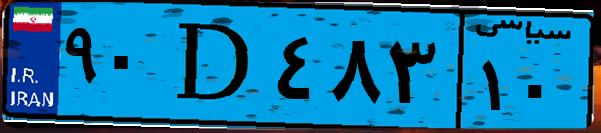0: (525, 38, 570, 115), (110, 28, 158, 98)
1: (475, 38, 525, 113)
3: (385, 28, 445, 110)
4: (270, 28, 330, 110)
8: (330, 28, 385, 110)
9: (57, 26, 110, 100)
D: (158, 12, 270, 120)
